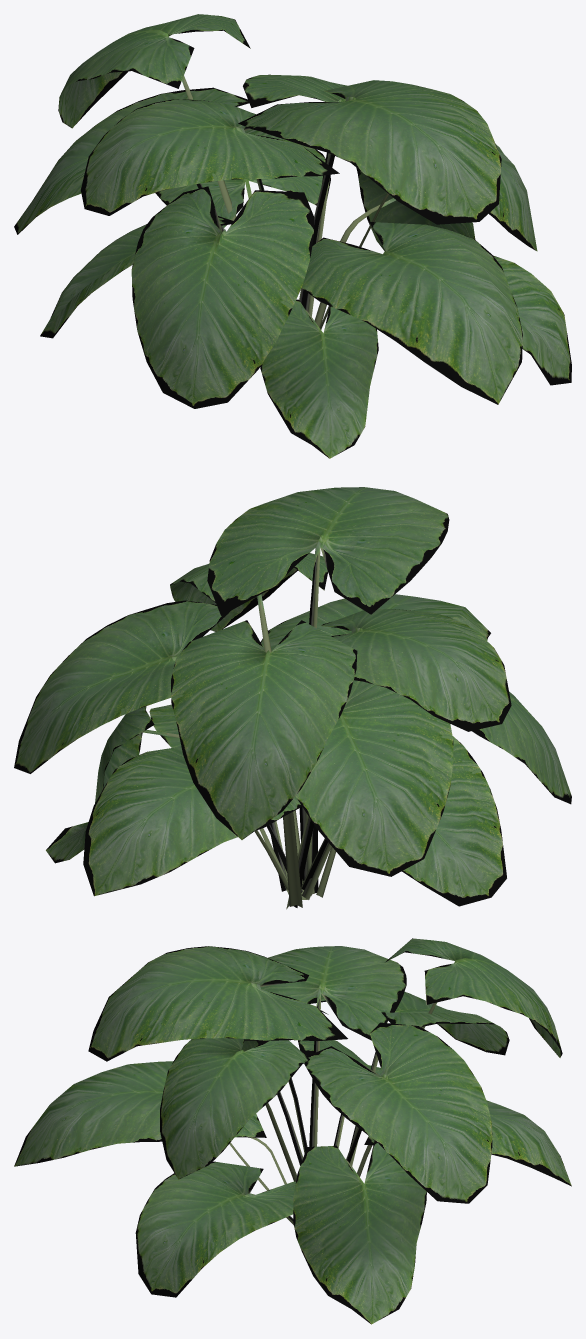
Rendered from taro.glb.
3 renders of one model, top to bottom at view 1: azimuth 30°, elevation 25°; view 2: azimuth 150°, elevation 25°; view 3: azimuth 270°, elevation 25°, orthographic. The views are drawn at different scales.
Visible parts, largest first — view 1: Object_2; view 2: Object_2; view 3: Object_2.
Part boxes in pixels (x1,y1,x2,y2): Object_2: [14, 14, 571, 458]; Object_2: [14, 487, 571, 909]; Object_2: [14, 938, 571, 1324].
Size of the model in its own units: 3.38 by 2.45 by 4.34.
Materials: 1 (1 with a texture image).
